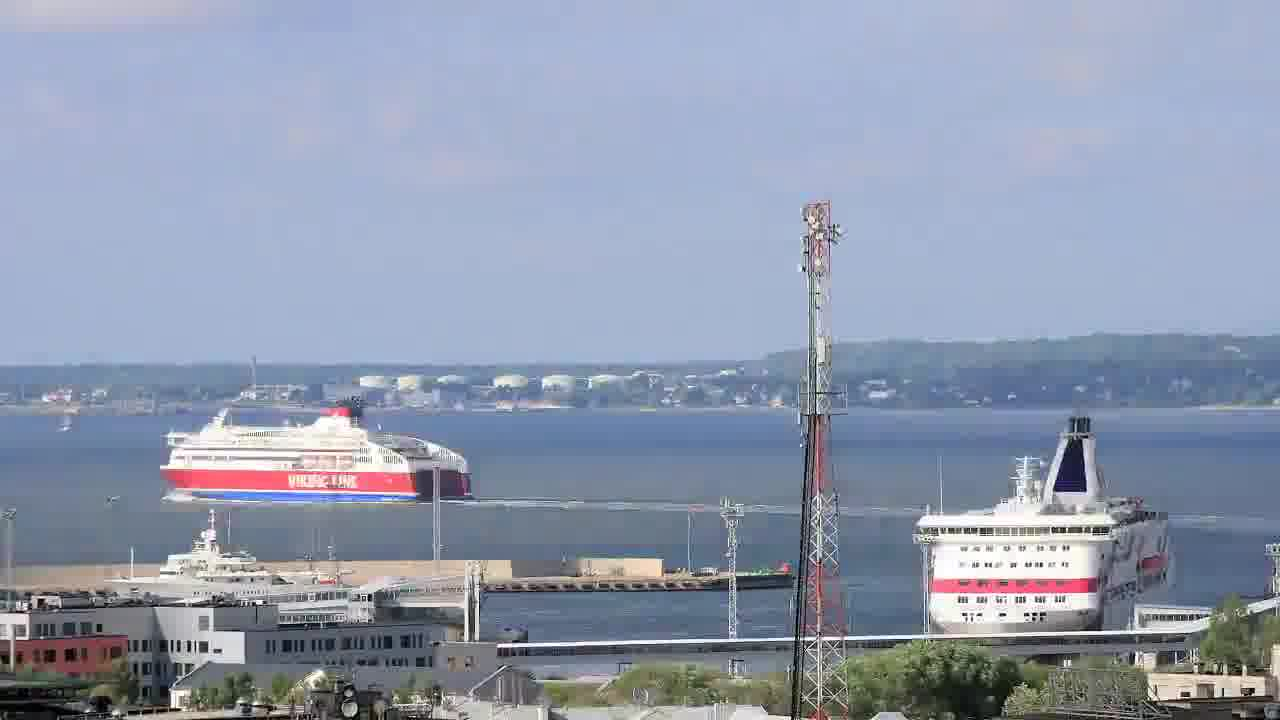type-2: (52, 389, 107, 450)
type-3: (889, 419, 1189, 638), (149, 386, 489, 504), (89, 518, 402, 620)
